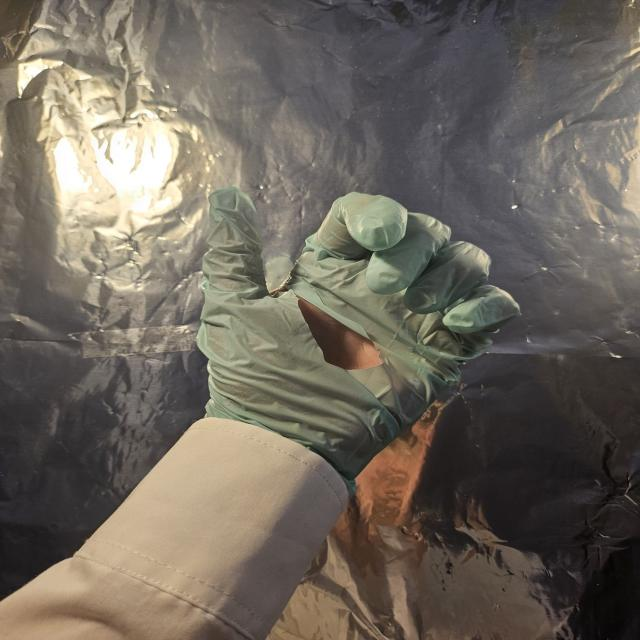gloves_damaged: (190, 182, 524, 476)
